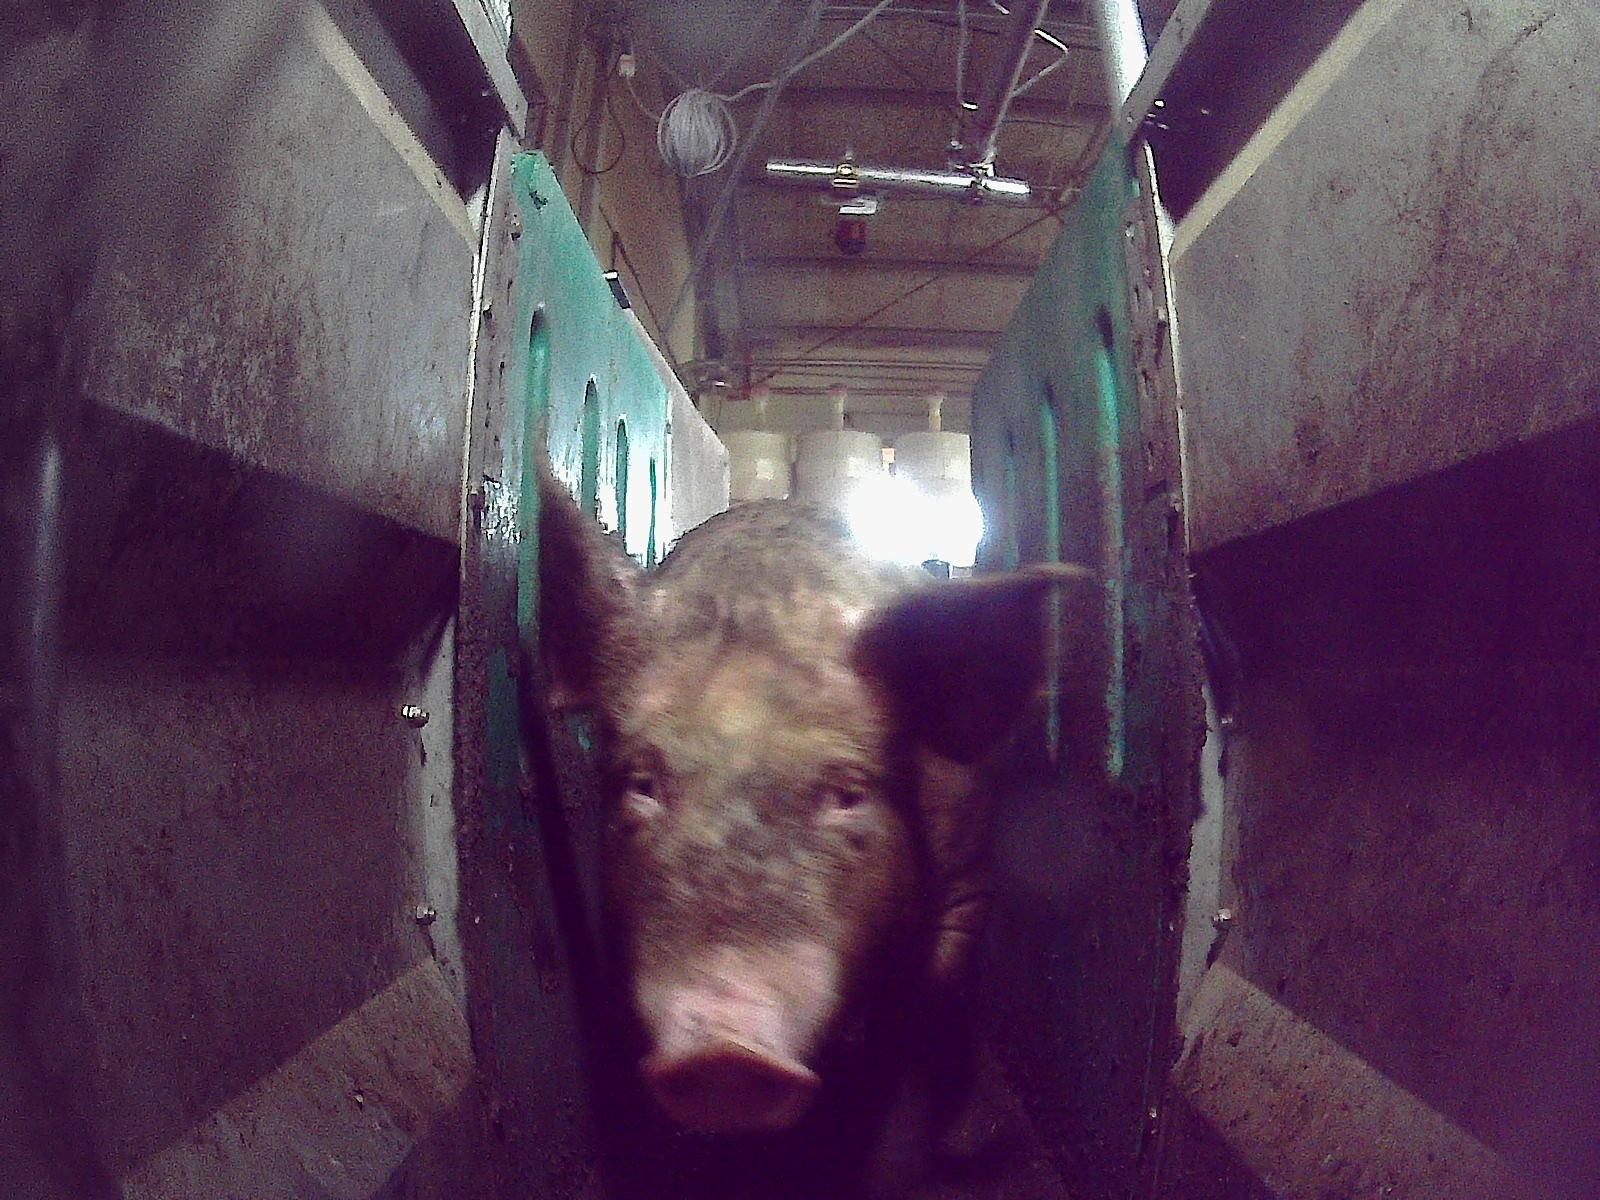Face: (597, 625, 913, 1130)
